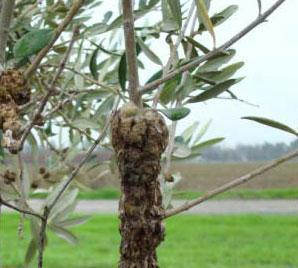Tuberculosis: (108, 102, 170, 262), (0, 65, 35, 106), (0, 102, 28, 149), (3, 168, 17, 186)
